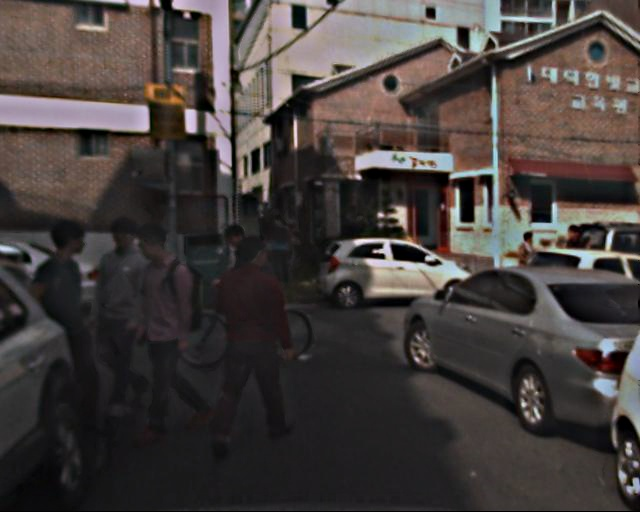person: (25, 218, 122, 435), (119, 226, 211, 441), (209, 239, 296, 450), (81, 217, 172, 410), (211, 222, 277, 360), (260, 216, 294, 286), (514, 231, 544, 304), (560, 226, 592, 294)
